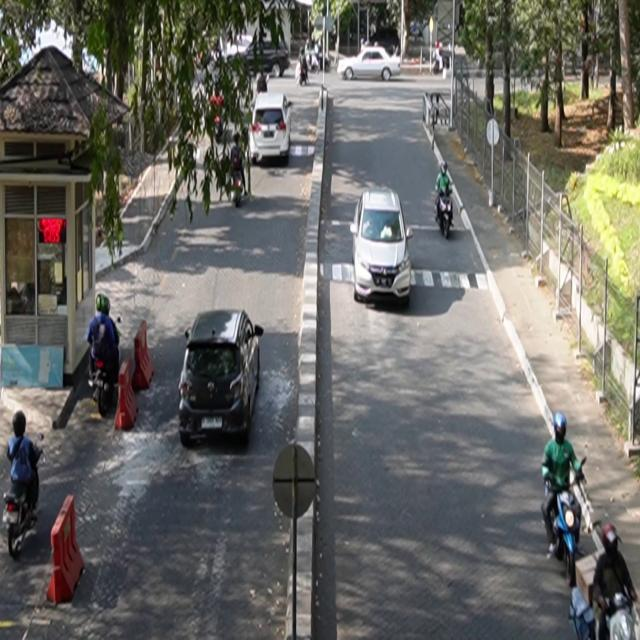car: (179, 308, 264, 448), (351, 187, 414, 305), (249, 93, 293, 165), (338, 47, 402, 82)
